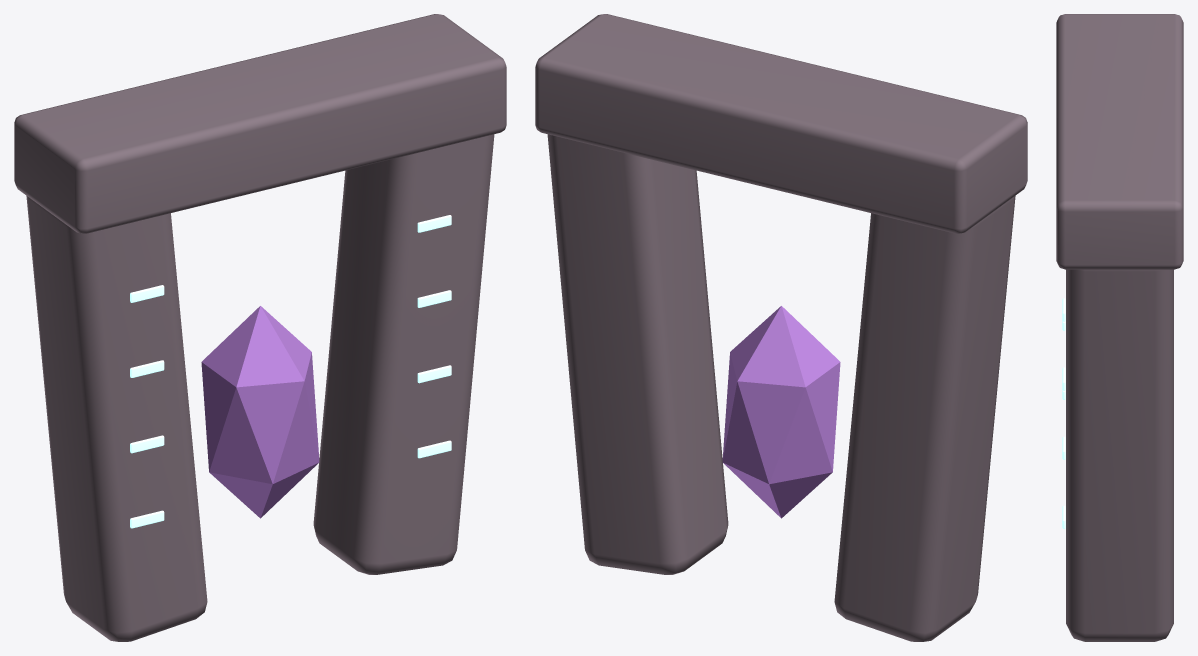
The model's file is ruin.glb.
3 views of the same model, side by side, from view 1: azimuth 30°, elevation 25°; view 2: azimuth 150°, elevation 25°; view 3: azimuth 270°, elevation 25° (orthographic). The views are drawn at different scales.
Parts seen in each view (by area): view 1: Ancient obelisk, Artifact core, Ancient glyph; view 2: Ancient obelisk, Artifact core; view 3: Ancient obelisk, Ancient glyph.
Boxes of the visible parts, x1,y1,x2,y2 form: Ancient obelisk: (14, 14, 506, 641); Artifact core: (201, 306, 319, 518); Ancient glyph: (130, 215, 451, 528); Ancient obelisk: (535, 14, 1027, 641); Artifact core: (722, 306, 840, 518); Ancient obelisk: (1056, 14, 1183, 641); Ancient glyph: (1062, 298, 1065, 528).
Size of the model in its own units: 3.6 by 4.02 by 1.
